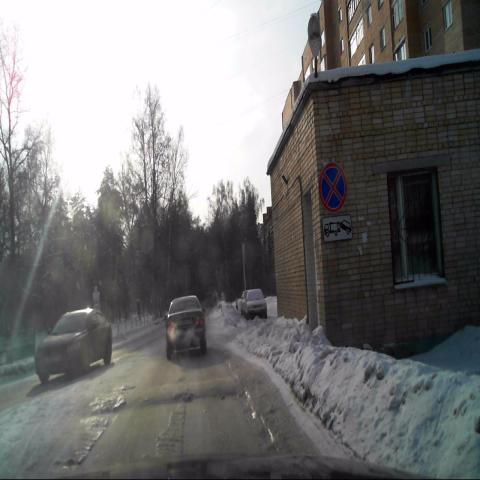3_27: (318, 161, 348, 213)
